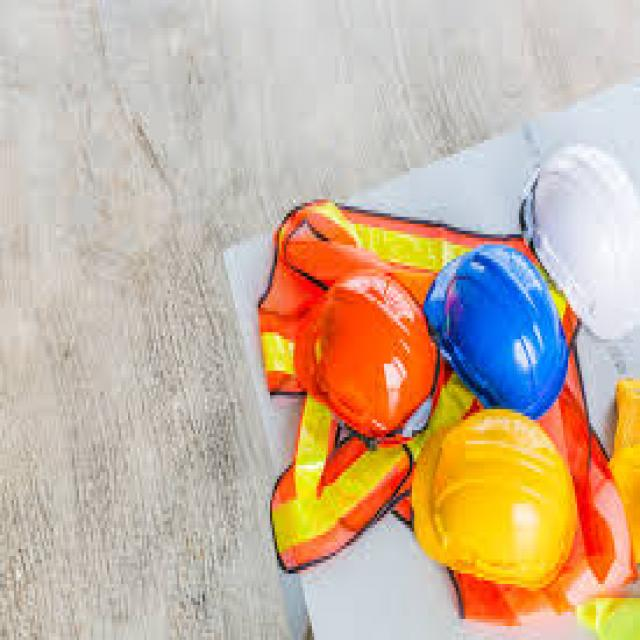Reflective-Jacket: (242, 182, 568, 420), (279, 255, 440, 444)
Safety-Helmet: (405, 406, 584, 602), (421, 238, 570, 420), (523, 136, 640, 339)
